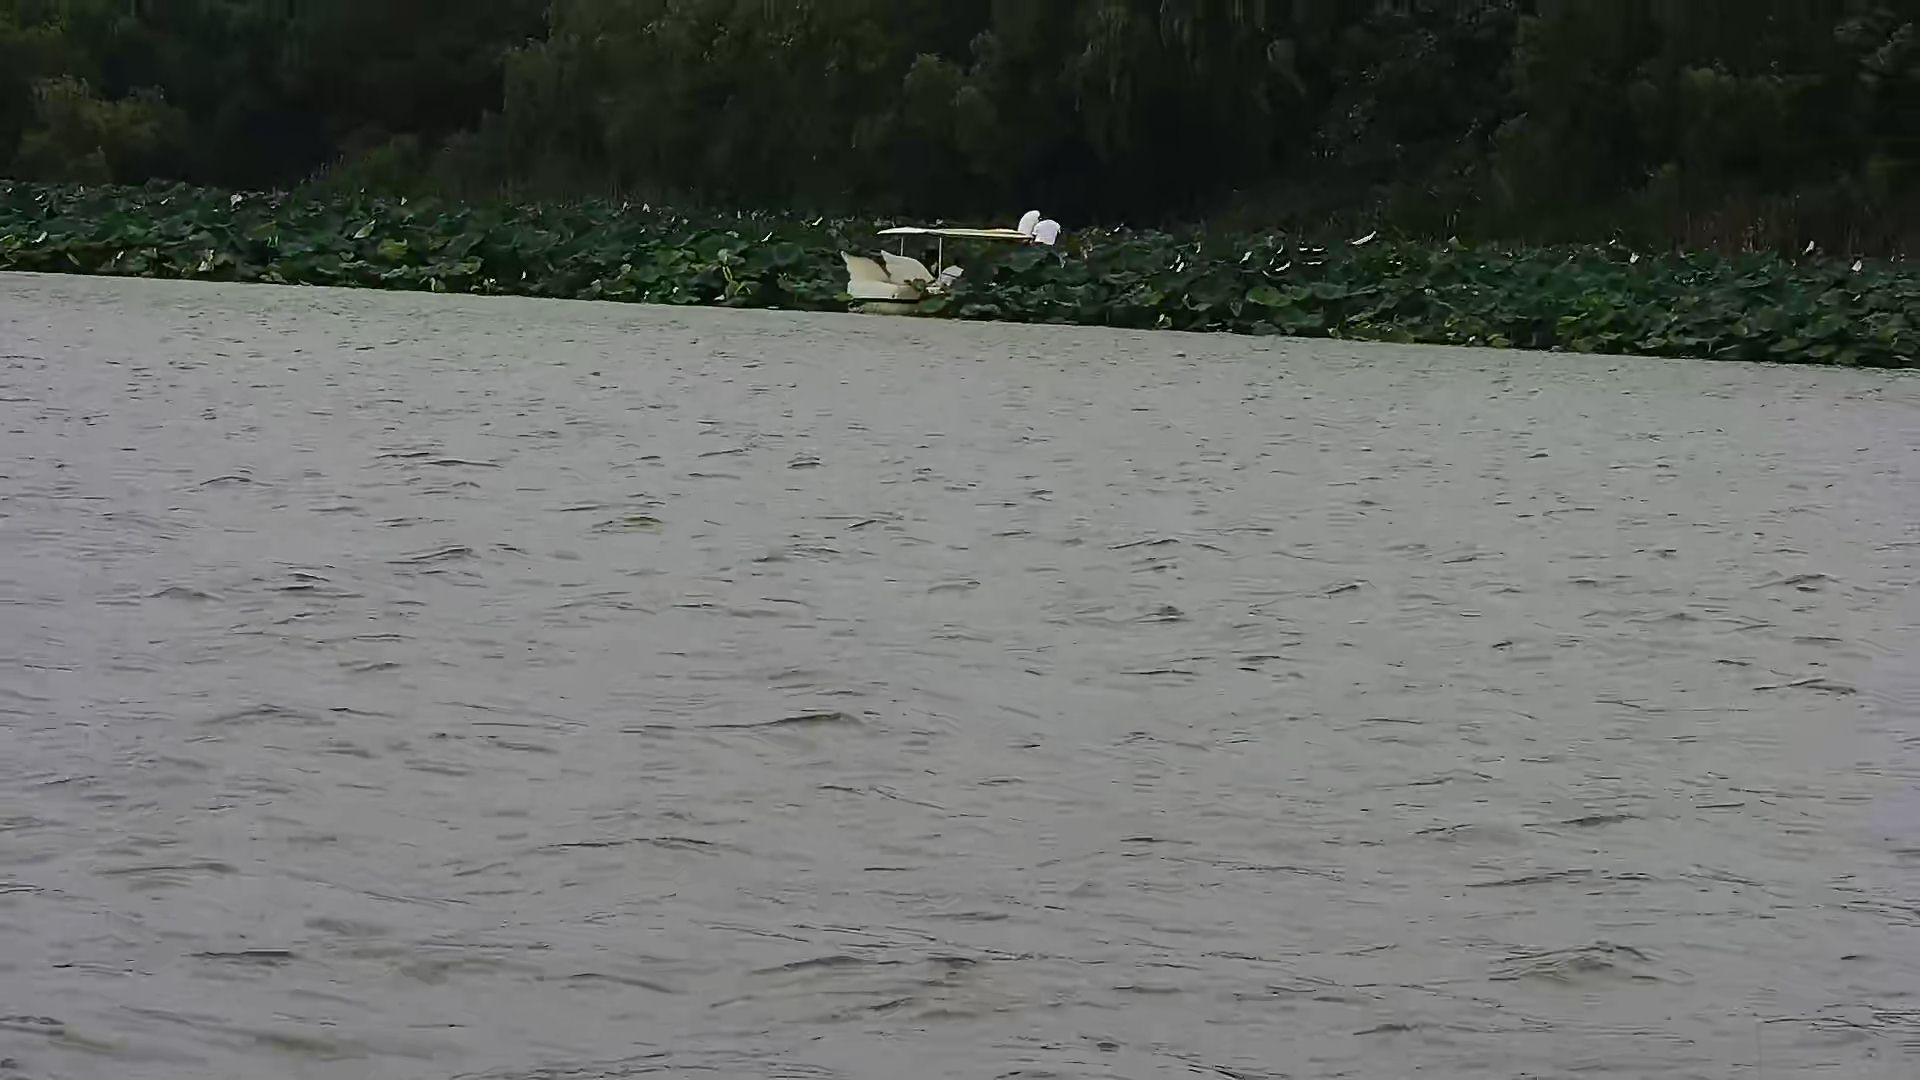boat: (836, 196, 1054, 316)
